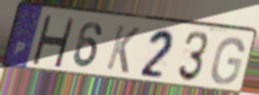2: (136, 26, 176, 82)
3: (177, 31, 210, 84)
6: (72, 21, 103, 70)
G: (209, 36, 246, 87)
H: (29, 13, 76, 69)
K: (104, 23, 142, 76)
